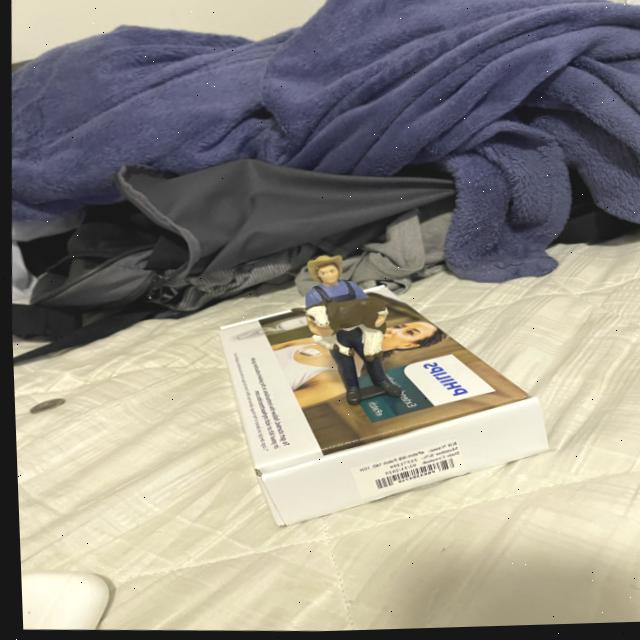cow: (300, 269, 405, 368), (306, 331, 346, 358)
person: (297, 247, 365, 321), (299, 289, 321, 309)
